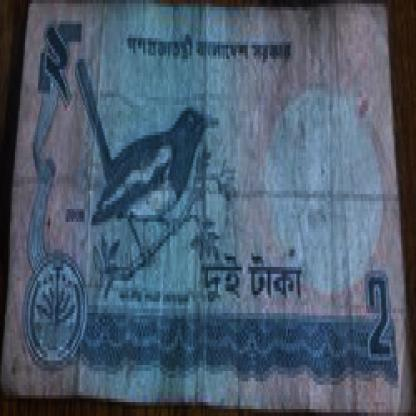two taka: (35, 17, 93, 108), (359, 264, 393, 375)
